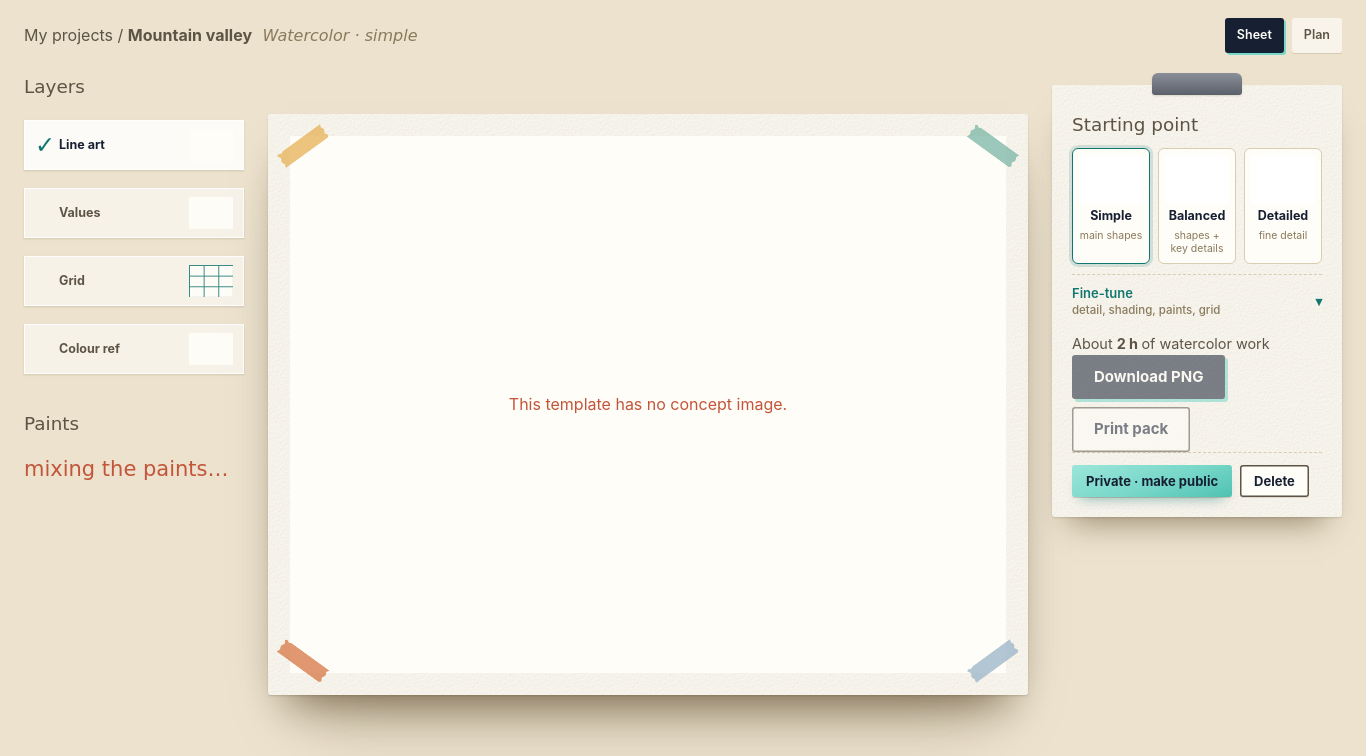
Test: Workspace › keeps fine-tune collapsed until opened
This screenshot has width=1366, height=756.
Expected: the field labelled "Line detail" is not shown
Click the button "Fine-tune detail, shading, paints, grid ▾" at {"x": 1197, "y": 301}, box x1=1072 y1=274 x2=1322 y2=327
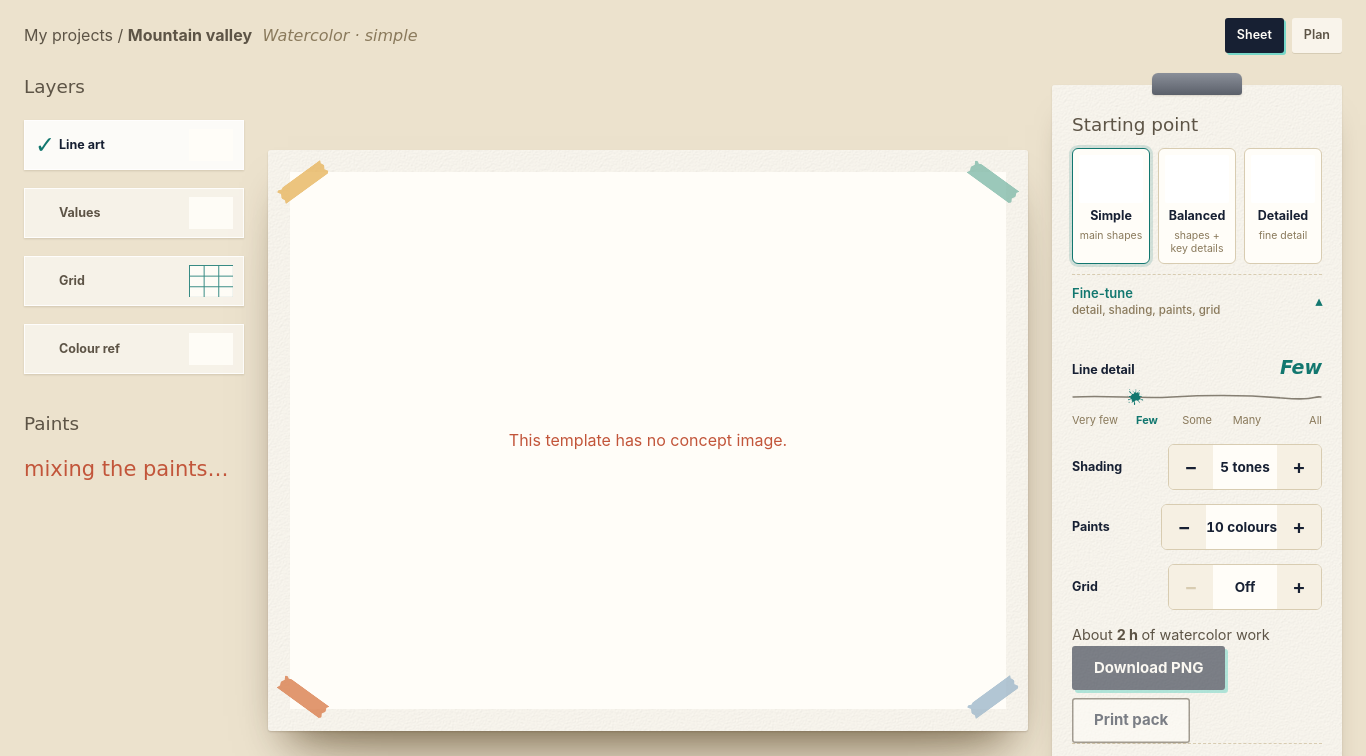
Expected: the slider labelled "Line detail" is shown, x1=1072 y1=361 x2=1135 y2=380
